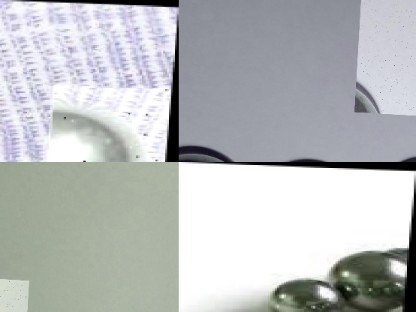ironball: (49, 84, 173, 162), (356, 0, 415, 114), (311, 251, 409, 308), (268, 268, 347, 311), (360, 107, 415, 162), (0, 275, 32, 311), (29, 298, 80, 311)
